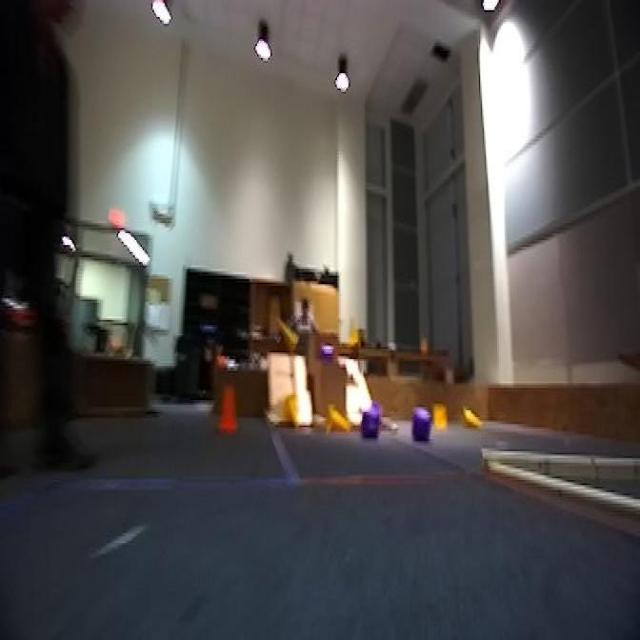frc_cone: (273, 312, 297, 358), (458, 408, 486, 432), (326, 407, 350, 434), (284, 392, 300, 431), (345, 315, 361, 351), (432, 398, 448, 431)
frc_cube: (363, 408, 381, 436), (412, 415, 428, 439), (320, 346, 337, 364)
